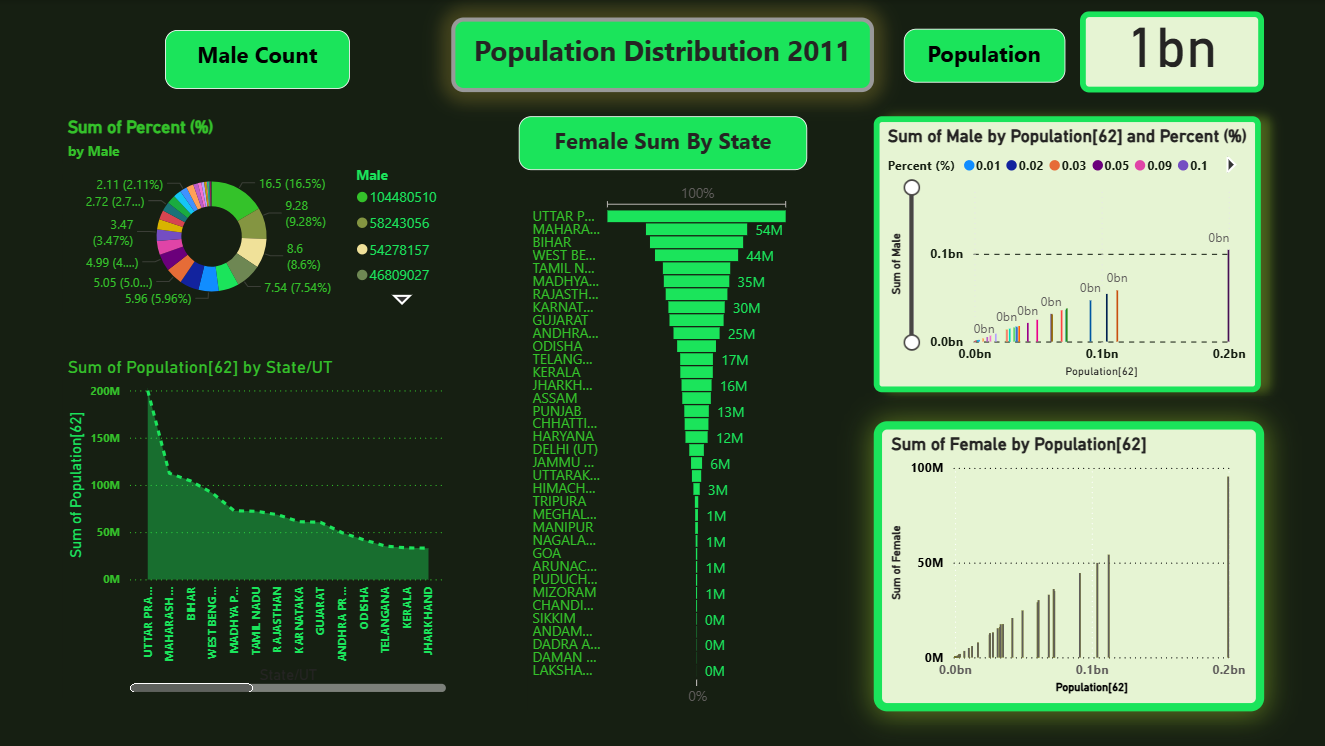

The page's visual inventory and layout, read from the dashboard file:
{"tool":"powerbi","page":{"name":"Page 1","canvas":[1280,720],"ordinal":0},"visuals":[{"type":"clusteredColumnChart","fields":{"Category":["Population distribution by states/union territories (2011).Population[62]"],"Y":["Sum(Population distribution by states/union territories (2011).Female)"]},"box":[843.3,406.6,376.4,279.9],"z":1000},{"type":"textbox","box":[159.3,29,178.6,56.7],"z":2000},{"type":"columnChart","fields":{"Category":["Population distribution by states/union territories (2011).Population[62]"],"Series":["Population distribution by states/union territories (2011).Percent (%)"],"Y":["Sum(Population distribution by states/union territories (2011).Male)"]},"box":[843.3,112.2,374,266.6],"z":3000},{"type":"card","fields":{"Values":["Sum(Population distribution by states/union territories (2011).Population[62])"]},"box":[1042.4,10.9,177.3,78.4],"z":4000},{"type":"lineChart","fields":{"Y":["Sum(Population distribution by states/union territories (2011).Population[62])"],"Category":["Population distribution by states/union territories (2011).State/UT"]},"box":[60.3,343.8,375.2,329.4],"z":5000},{"type":"textbox","box":[435.5,16.9,407.8,72.4],"z":6000},{"type":"donutChart","fields":{"Y":["Sum(Population distribution by states/union territories (2011).Percent (%))"],"Category":["Population distribution by states/union territories (2011).Male"]},"box":[60.3,112.2,375.2,189.4],"z":7000},{"type":"textbox","box":[872,27.7,155.6,51.9],"z":8000},{"type":"funnel","fields":{"Category":["Population distribution by states/union territories (2011).State/UT"],"Y":["Sum(Population distribution by states/union territories (2011).Female)"]},"box":[509.1,171.3,259.4,513.9],"z":9000},{"type":"textbox","box":[500.7,112.2,278.7,51.9],"z":11000}]}

Visuals, with their boxes in screenshot pixels (x1, y1, x2, y2), scaled from the page's 1280x720 canvas onto the 1325x746 screenshot:
clusteredColumnChart - Population distribution by states/union territories (2011).Population[62] x Sum(Population distribution by states/union territories (2011).Female): rect(873, 421, 1263, 711)
textbox: rect(165, 30, 350, 89)
columnChart - Population distribution by states/union territories (2011).Population[62] x Population distribution by states/union territories (2011).Percent (%): rect(873, 116, 1260, 392)
card - Sum(Population distribution by states/union territories (2011).Population[62]): rect(1079, 11, 1263, 93)
lineChart - Sum(Population distribution by states/union territories (2011).Population[62]) x Population distribution by states/union territories (2011).State/UT: rect(62, 356, 451, 698)
textbox: rect(451, 18, 873, 93)
donutChart - Sum(Population distribution by states/union territories (2011).Percent (%)) x Population distribution by states/union territories (2011).Male: rect(62, 116, 451, 312)
textbox: rect(903, 29, 1064, 82)
funnel - Population distribution by states/union territories (2011).State/UT x Sum(Population distribution by states/union territories (2011).Female): rect(527, 177, 796, 710)
textbox: rect(518, 116, 807, 170)
